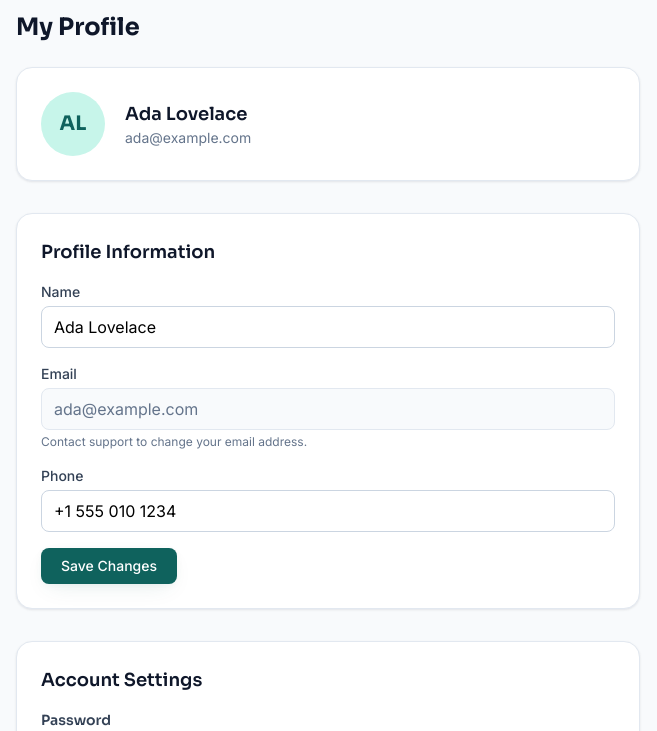
it: Profile › shows a validation error when name is cleared
Step 1. Clear the field labelled "Name" → point(328, 327), box [41,306,615,348]
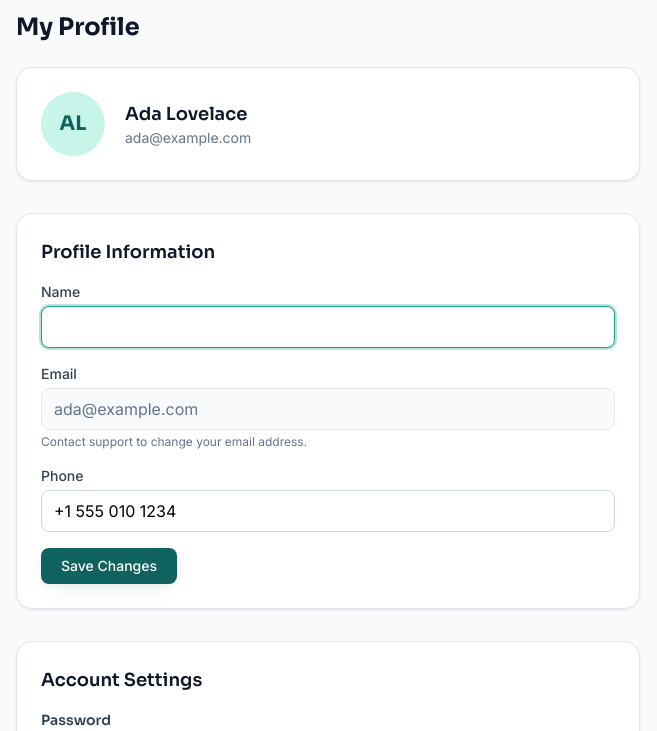
Step 2. Click the button "Save Changes" → point(109, 566), box [41,548,177,584]
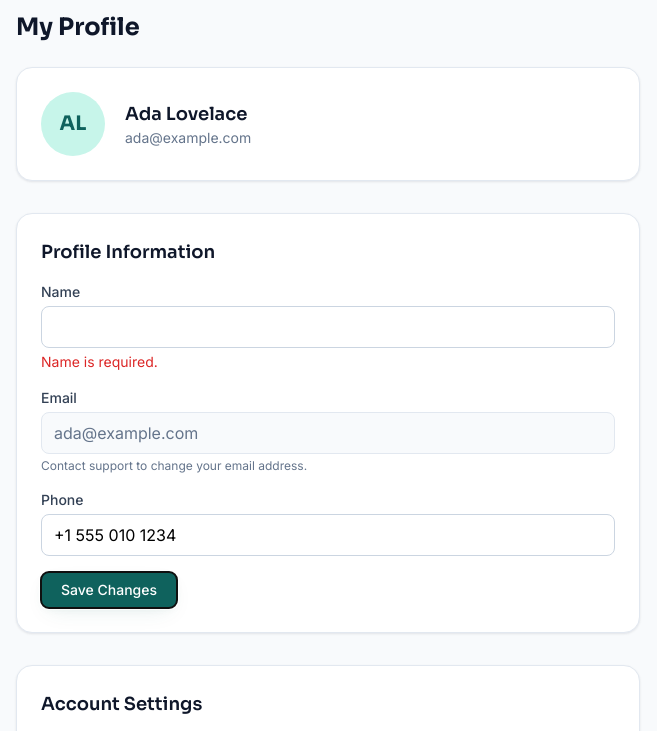
expect the text "Name is required." is shown: met, box [41,353,158,370]
